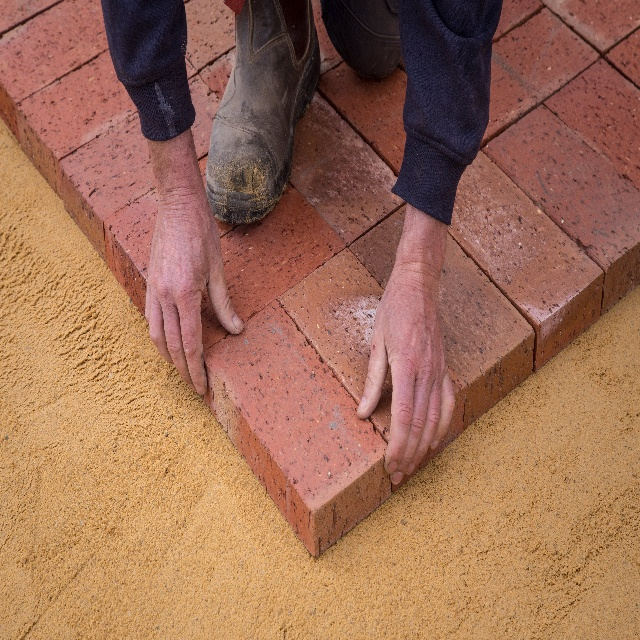Sin_guantes: (357, 263, 456, 487), (143, 200, 243, 392)
